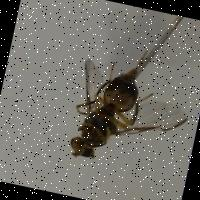Oriental-fruit-fly: (41, 29, 200, 188)
